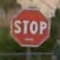stop: (8, 7, 51, 47)
